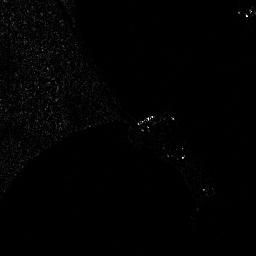ship: (137, 111, 176, 134)
